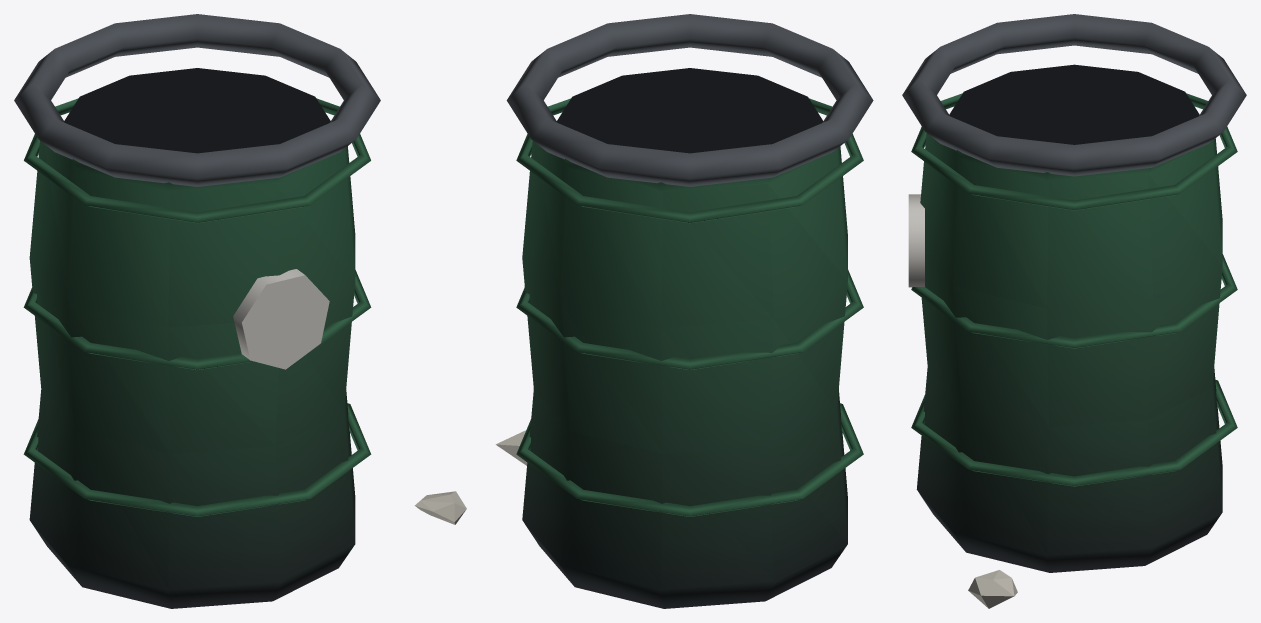
Rendered from trash-bin-01.glb.
The picture shows the model from 3 angles, left to right: view 1: azimuth 30°, elevation 25°; view 2: azimuth 150°, elevation 25°; view 3: azimuth 270°, elevation 25°; orthographic projection. The views are drawn at different scales.
Parts seen in each view (by area): view 1: trash_bin_01; view 2: trash_bin_01; view 3: trash_bin_01.
Part boxes in pixels (x1,y1,x2,y2): trash_bin_01: [14, 14, 466, 608]; trash_bin_01: [495, 14, 873, 608]; trash_bin_01: [902, 14, 1246, 608].
Bounding box in the file's own units: 0.7691 × 0.882 × 0.634.
